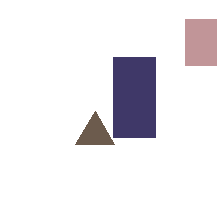rectangle: (113, 57, 155, 137), (185, 19, 216, 65)
triangle: (75, 111, 114, 144)
